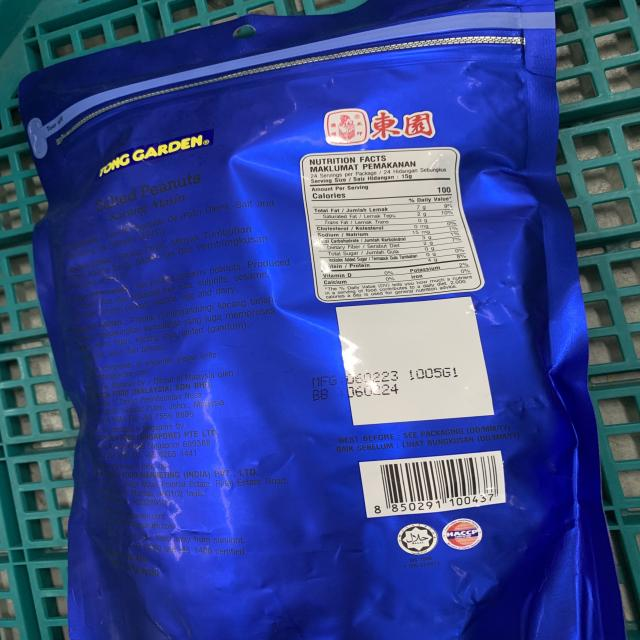object_name: (23, 38, 616, 640)
